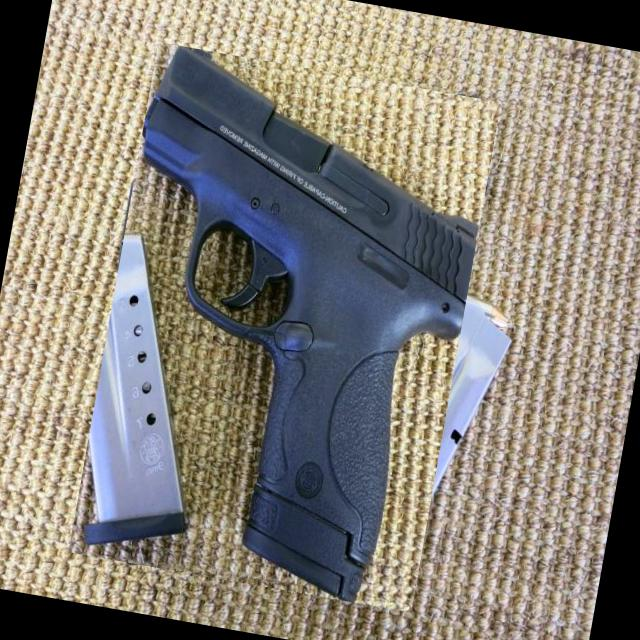Gun: (144, 46, 478, 602)
